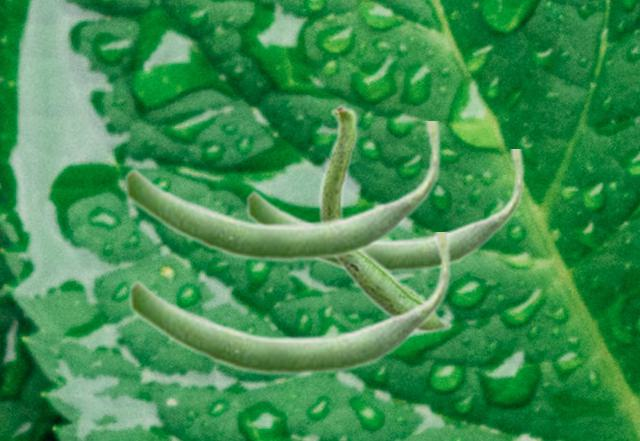french_bean: (127, 232, 451, 377), (123, 121, 441, 263), (245, 149, 524, 274), (318, 102, 452, 333)
